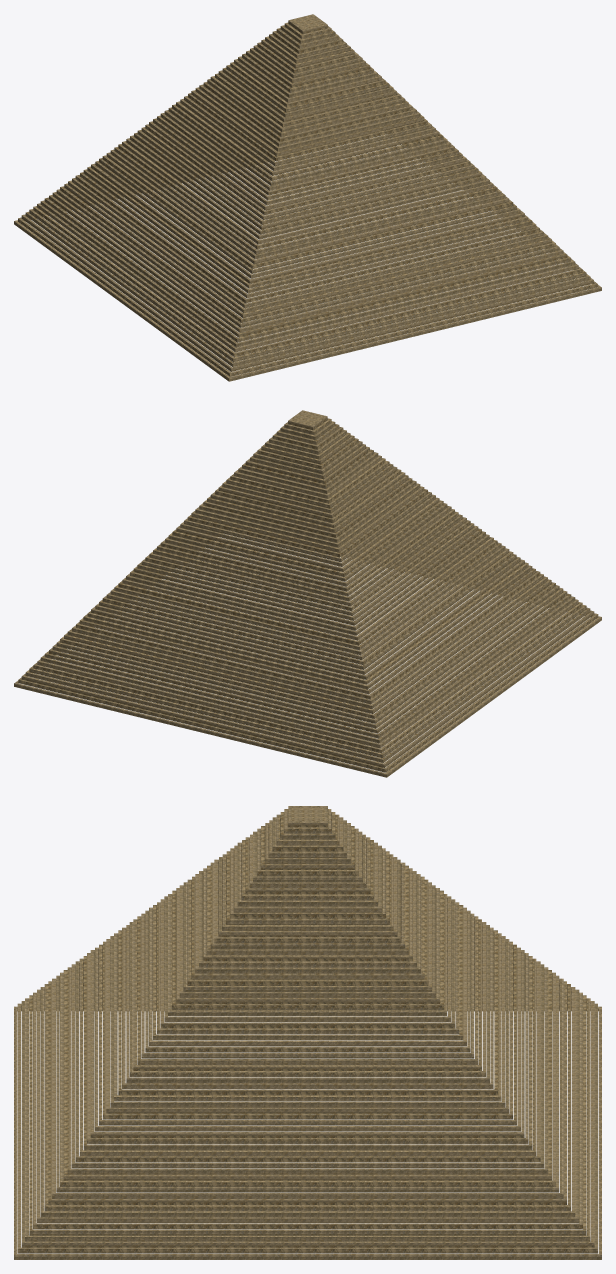
Rendered from great_pyramid.gltf.
3 views of the same model, one above another, from view 1: azimuth 30°, elevation 25°; view 2: azimuth 150°, elevation 25°; view 3: azimuth 270°, elevation 25° (orthographic). The views are drawn at different scales.
Visible parts, largest first — view 1: great_pyramid; view 2: great_pyramid; view 3: great_pyramid.
Part boxes in pixels (<box>): great_pyramid: <box>14,14,601,381</box>; great_pyramid: <box>14,410,601,777</box>; great_pyramid: <box>14,806,601,1259</box>.
Bounding box in the file's own units: 230 × 138 × 230.
1 material, 1 textured.
